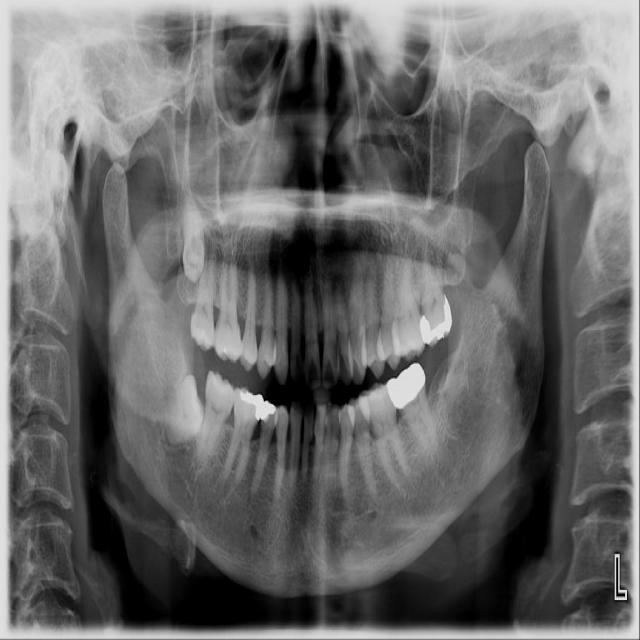Crown: (387, 363, 425, 413)
Filling: (417, 297, 454, 346), (239, 391, 263, 418), (257, 399, 276, 423)
impacted tooth: (152, 372, 202, 444), (180, 194, 206, 279)
